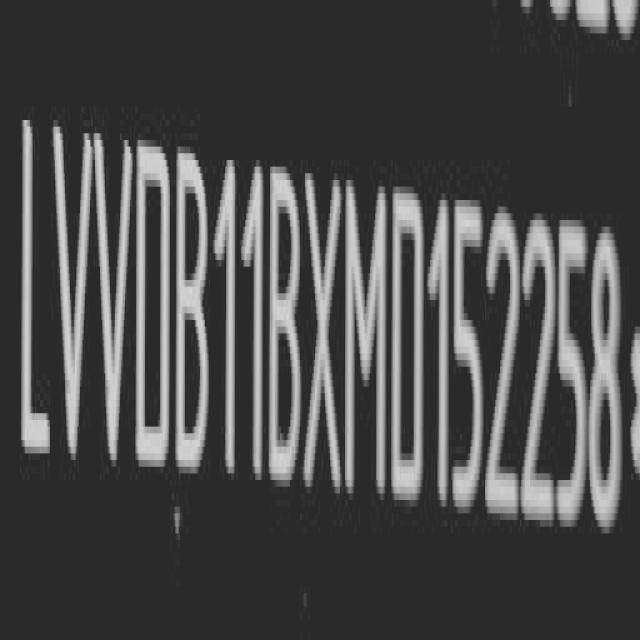1: (214, 149, 238, 488), (428, 189, 450, 514), (242, 154, 263, 488)
2: (487, 200, 522, 530), (524, 214, 556, 536)
5: (556, 213, 588, 534), (454, 191, 485, 518)
8: (592, 226, 622, 534)
B: (178, 146, 212, 479), (269, 160, 302, 491)
D: (134, 130, 170, 478), (394, 184, 427, 506)
L: (18, 110, 51, 471)
M: (346, 176, 388, 504)
V: (52, 124, 92, 471), (95, 127, 135, 474)
X: (305, 169, 343, 495)
